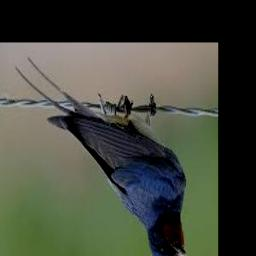Swallow: (15, 57, 187, 256)
